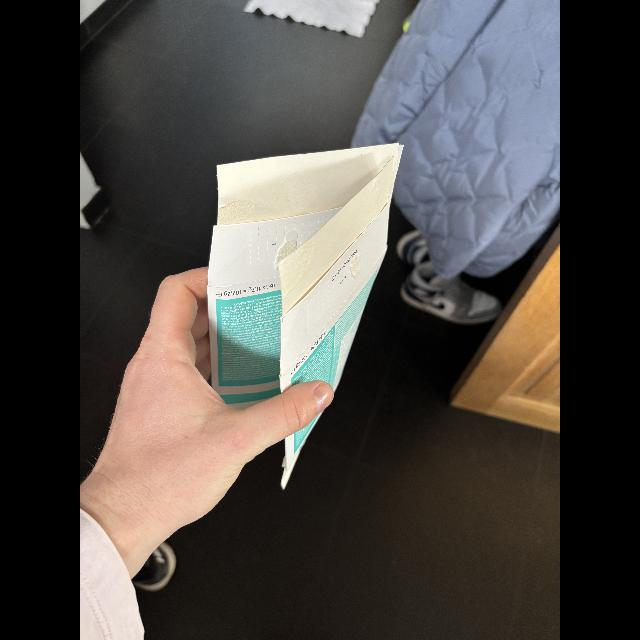Cardboard: (204, 140, 406, 494)
